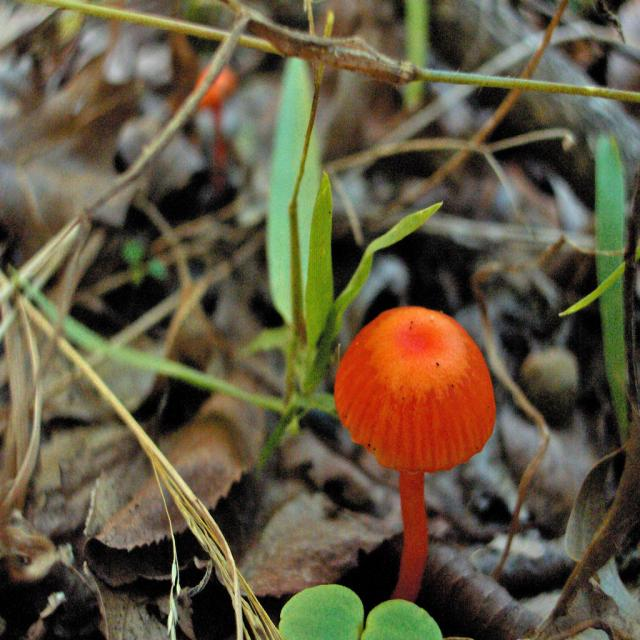Mushroom: (332, 305, 496, 601), (195, 64, 242, 183)
